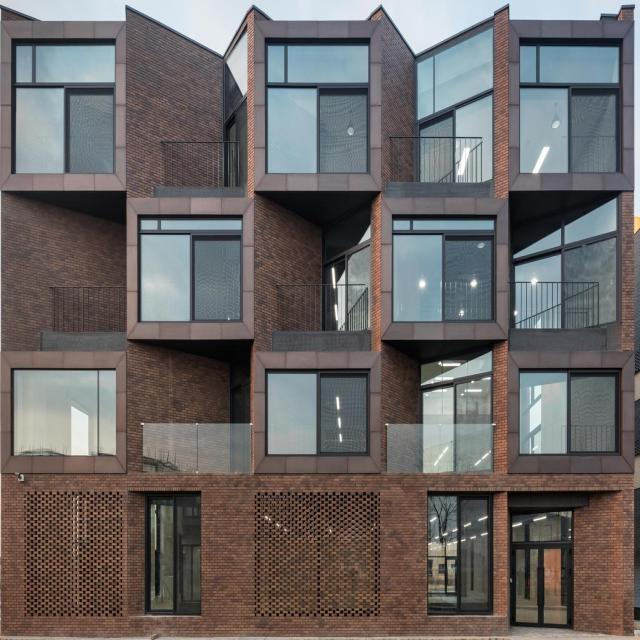Railing: (390, 135, 482, 184), (278, 282, 370, 331), (508, 282, 599, 331), (51, 285, 126, 336), (166, 138, 241, 189)
door: (510, 542, 576, 630), (385, 424, 496, 476), (143, 424, 254, 475)
wall: (0, 2, 637, 638)
windows: (14, 39, 115, 170), (514, 198, 618, 325), (266, 38, 366, 170), (520, 42, 620, 173), (416, 29, 493, 182), (139, 216, 244, 321), (394, 216, 498, 321), (12, 369, 116, 456), (266, 369, 366, 454), (520, 372, 620, 455), (428, 497, 493, 614), (148, 493, 201, 613), (420, 342, 493, 423)
